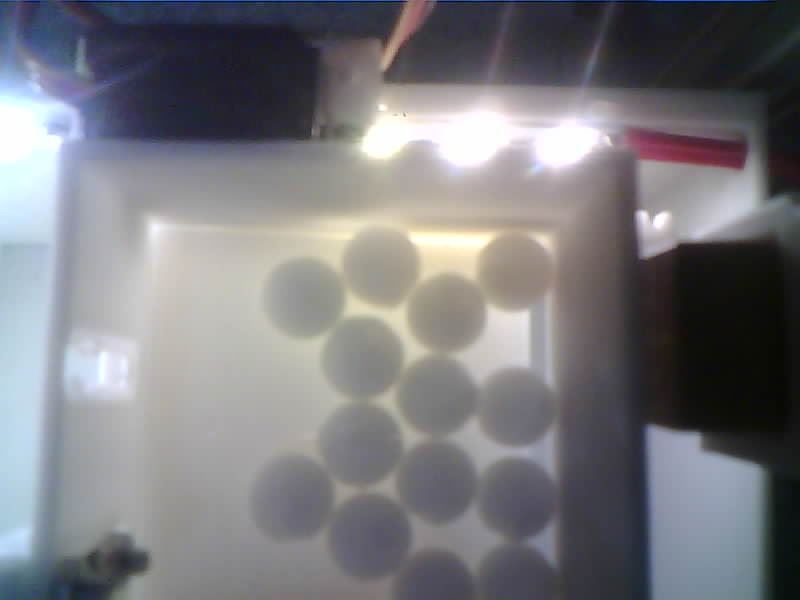Paper: (315, 402, 401, 489), (328, 495, 414, 580), (264, 259, 348, 345), (251, 457, 333, 545), (475, 455, 555, 541), (396, 443, 474, 526), (397, 356, 476, 436), (344, 229, 421, 311), (474, 365, 551, 446), (323, 318, 398, 401), (410, 274, 488, 352), (479, 238, 551, 310), (471, 542, 554, 600), (398, 548, 472, 600)
